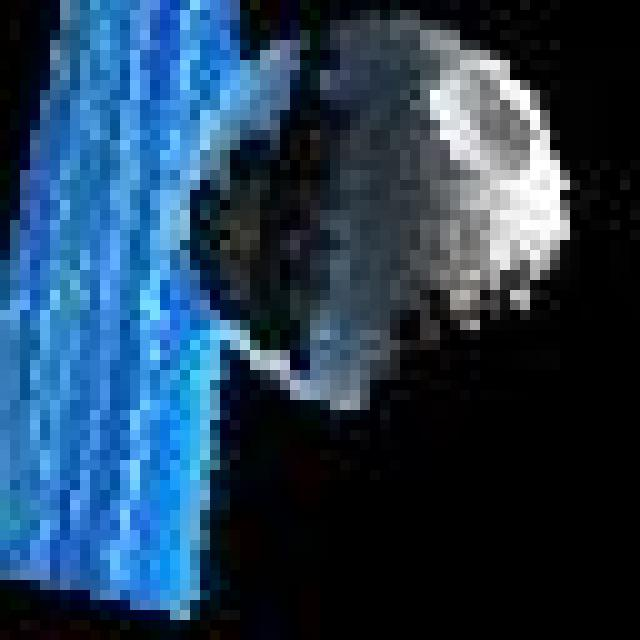Death Star: (183, 31, 574, 414)
